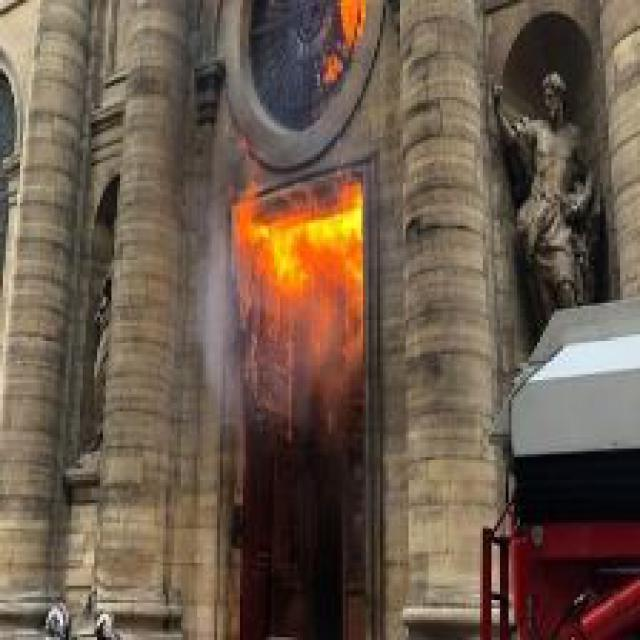fire: (225, 168, 368, 348)
